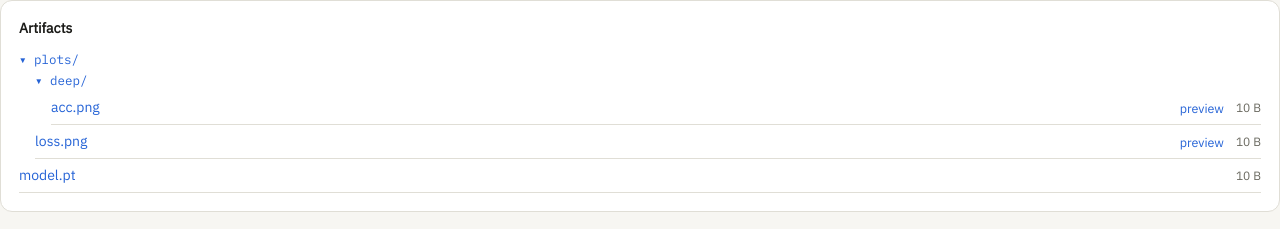
it: artifact tree › shows nested names under collapsible folders
The image size is (1280, 229).
Expected: the link "loss.png" is shown, [35, 131, 87, 152]
Click the button "▾ plots/": (49, 59) [19, 51, 79, 67]
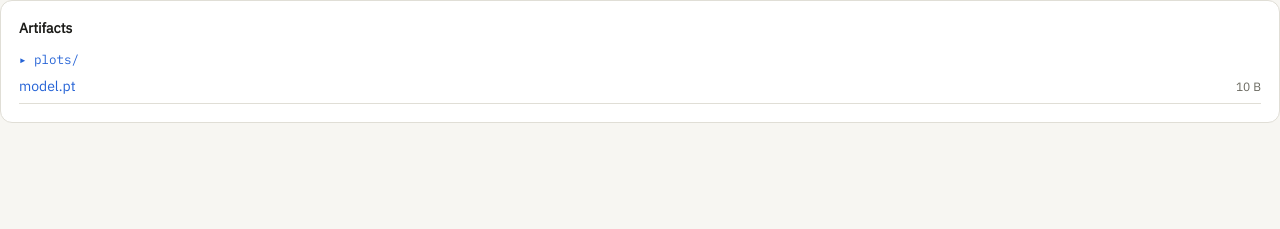
Expected: the link "model.pt" is shown, [19, 76, 76, 97]
Now the button "▸ plots/" is collapsed, box [19, 51, 79, 67]
Now the link "loss.png" is gone
